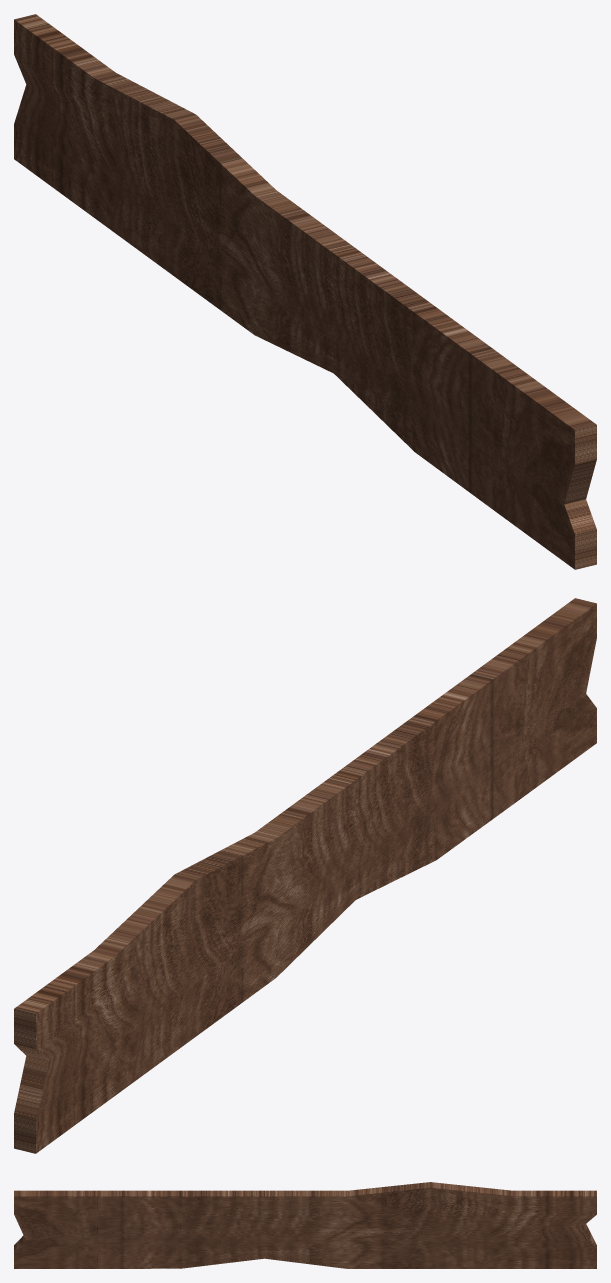
The model's file is wooden board 3.fbx.
3 views of the same model, one above another, from view 1: azimuth 30°, elevation 25°; view 2: azimuth 150°, elevation 25°; view 3: azimuth 270°, elevation 25° (orthographic). The views are drawn at different scales.
Visible parts, largest first — view 1: Wooden Board.002; view 2: Wooden Board.002; view 3: Wooden Board.002.
Boxes of the visible parts, x1,y1,x2,y2 form: Wooden Board.002: (14, 14, 596, 569); Wooden Board.002: (14, 598, 596, 1153); Wooden Board.002: (14, 1182, 596, 1268).
Bounding box in the file's own units: 131 × 2.95 × 20.16.
